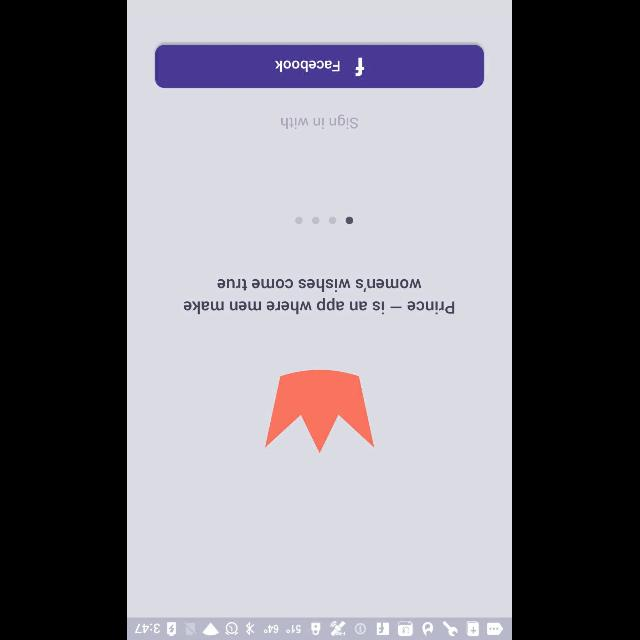image: (266, 370, 374, 452)
pageindicator: (296, 216, 354, 224)
text: (184, 279, 456, 315), (282, 114, 358, 130)
textbutton: (156, 44, 484, 88)
uppertaskbar: (128, 617, 512, 639)
